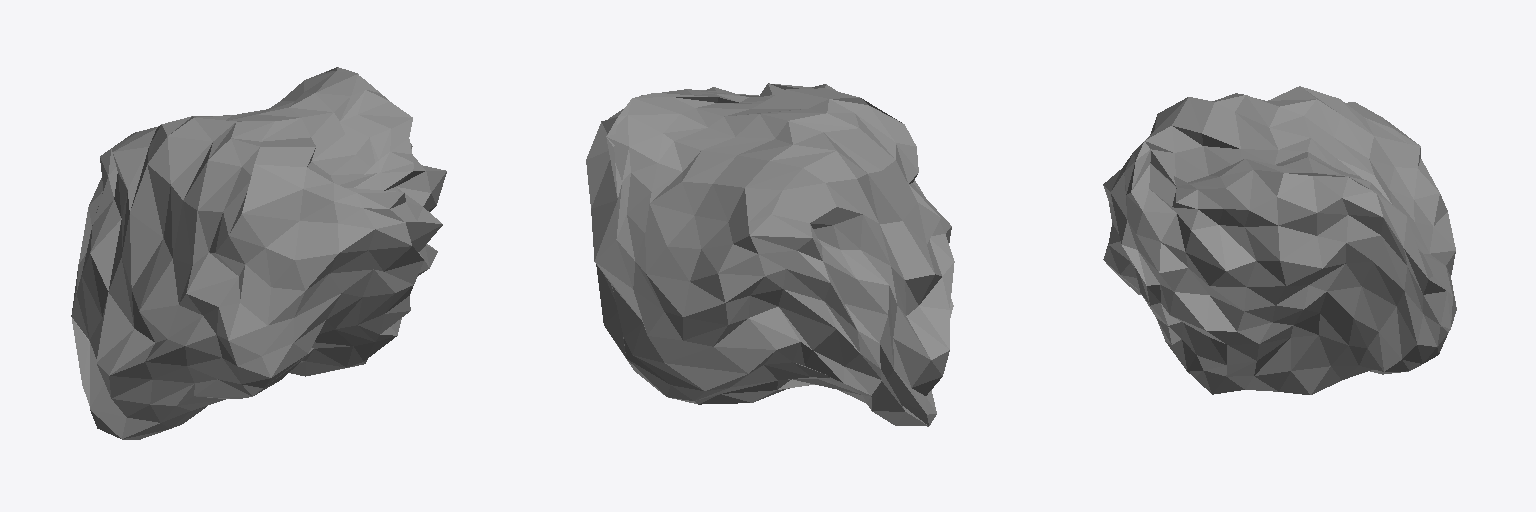
File: rock1.obj
3 renders of one model, left to right at view 1: azimuth 30°, elevation 25°; view 2: azimuth 150°, elevation 25°; view 3: azimuth 270°, elevation 25°, orthographic.
Parts seen in each view (by area): view 1: Box007; view 2: Box007; view 3: Box007.
Boxes of the visible parts, <box> form: Box007: <box>71,67,446,439</box>; Box007: <box>586,83,954,426</box>; Box007: <box>1103,86,1456,394</box>.
Bounding box in the file's own units: 93.96 × 77 × 87.56.